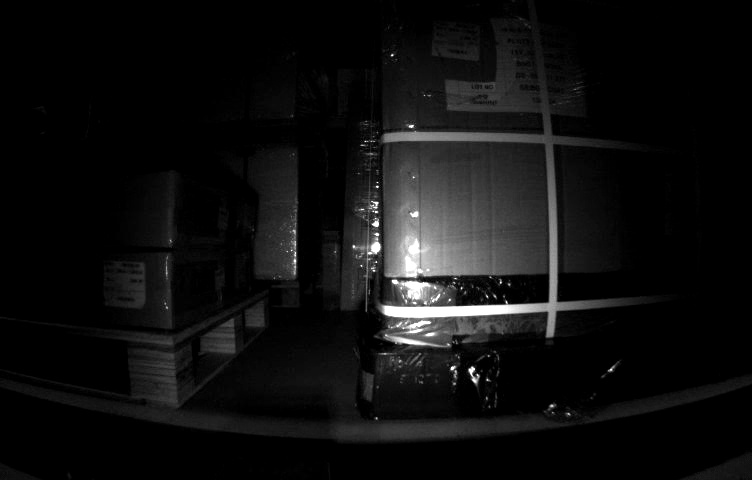True Barcode: (103, 257, 146, 308), (432, 18, 479, 61)
